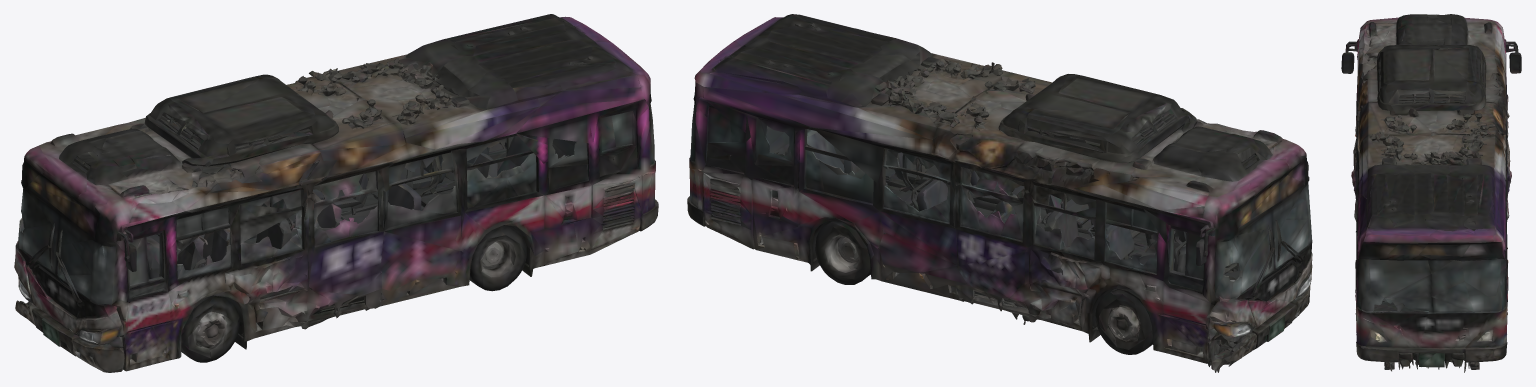
Rendered from wrecked-bus.glb.
3 views of the same model, side by side, from view 1: azimuth 30°, elevation 25°; view 2: azimuth 150°, elevation 25°; view 3: azimuth 270°, elevation 25° (orthographic). The views are drawn at different scales.
Visible parts, largest first — view 1: output_unwrapped; view 2: output_unwrapped; view 3: output_unwrapped.
Boxes of the visible parts, x1,y1,x2,y2 form: output_unwrapped: [14, 14, 658, 372]; output_unwrapped: [687, 14, 1312, 372]; output_unwrapped: [1341, 14, 1521, 372].
Size of the model in its own units: 1.9 by 0.6638 by 0.6316.
Materials: 1 (1 with a texture image).
